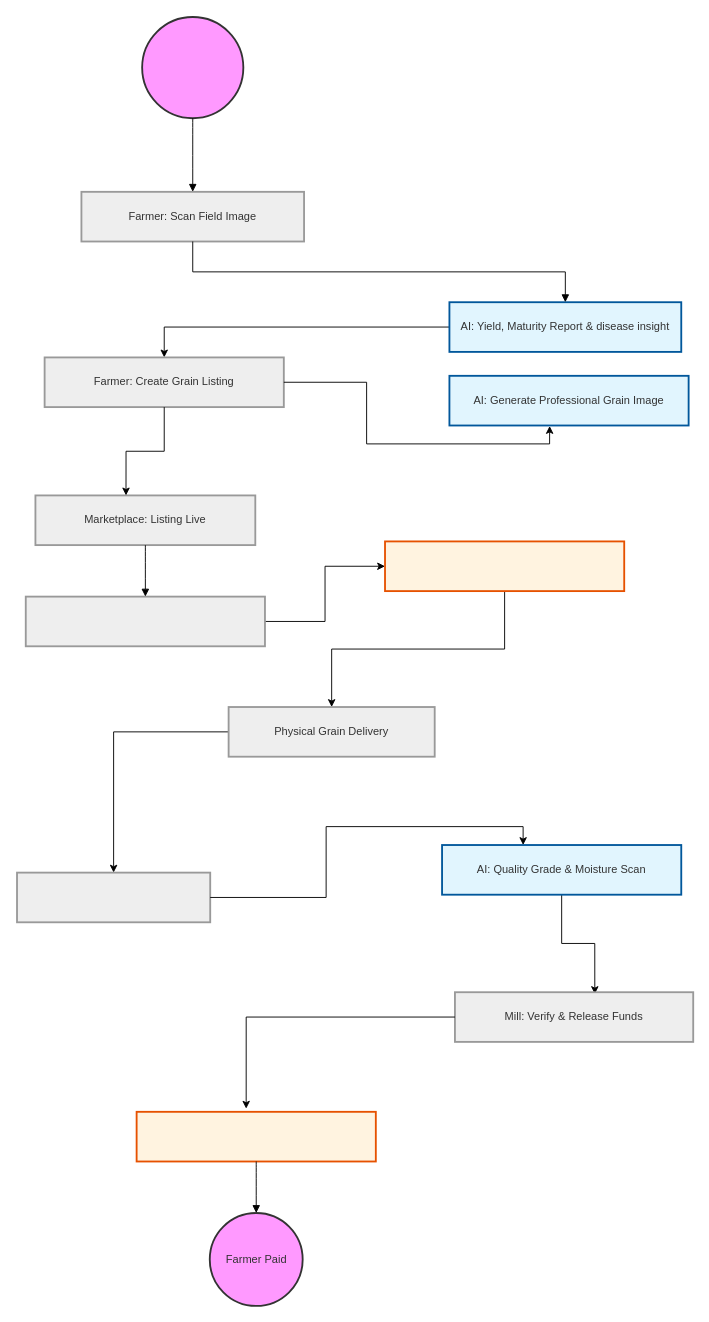
This 709x1322 diagram has some shape labels left out. The shapes that lost their labels are listed below. From the top down, each one's centre as x and y in pixels, then its label:
At point 192,67: "GrainTrust-Ai".
At point 504,566: "Mill: Fund Escrow via Interswitch".
At point 144,621: "Mill: Browse & Select Listing".
At point 113,897: "Mill: Scan Grain Quality".
At point 255,1136: "Interswitch: Disburse to Farmer Bank".
